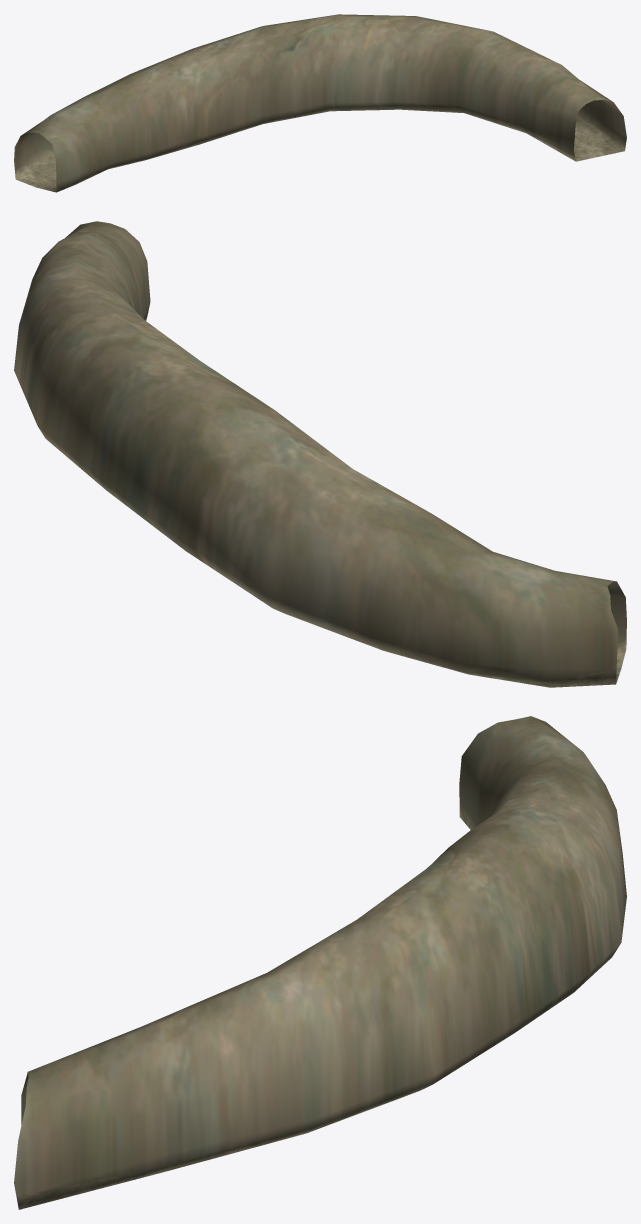
The model's file is EKH_GROTTO_PS_GR_LINE169.fbx.
3 renders of one model, top to bottom at view 1: azimuth 30°, elevation 25°; view 2: azimuth 150°, elevation 25°; view 3: azimuth 270°, elevation 25°, orthographic. The views are drawn at different scales.
Visible parts, largest first — view 1: EKH_GROTTO_PS_GR_LINE169; view 2: EKH_GROTTO_PS_GR_LINE169; view 3: EKH_GROTTO_PS_GR_LINE169.
Boxes of the visible parts, x1,y1,x2,y2 form: EKH_GROTTO_PS_GR_LINE169: [14, 14, 626, 192]; EKH_GROTTO_PS_GR_LINE169: [14, 221, 626, 687]; EKH_GROTTO_PS_GR_LINE169: [14, 716, 626, 1209].
Bounding box in the file's own units: 197128 × 45612 × 116047.
Materials: 1 (1 with a texture image).
